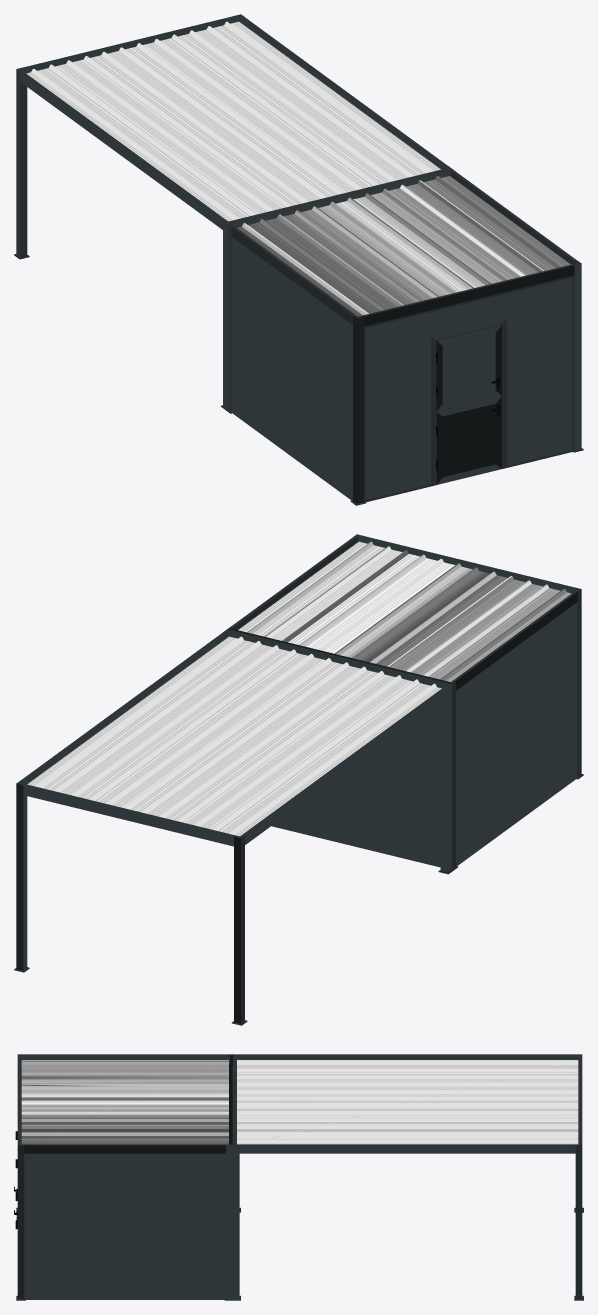
The model's file is 13444_carport5x3abri3x3.fbx.
3 renders of one model, top to bottom at view 1: azimuth 30°, elevation 25°; view 2: azimuth 150°, elevation 25°; view 3: azimuth 270°, elevation 25°, orthographic. The views are drawn at different scales.
Visible parts, largest first — view 1: priximbattable_net_box_a_cheval_13444_module_carport_box_che, folhabaixo, folhacima, porta; view 2: priximbattable_net_box_a_cheval_13444_module_carport_box_che; view 3: priximbattable_net_box_a_cheval_13444_module_carport_box_che.
Part boxes in pixels (box(x1,y1,x2,y2)): priximbattable_net_box_a_cheval_13444_module_carport_box_che: box(14, 14, 583, 505); folhabaixo: box(436, 396, 501, 484); folhacima: box(436, 325, 501, 411); porta: box(431, 318, 506, 486); priximbattable_net_box_a_cheval_13444_module_carport_box_che: box(14, 534, 583, 1025); priximbattable_net_box_a_cheval_13444_module_carport_box_che: box(16, 1054, 583, 1300).
Bounding box in the file's own units: 324 × 254 × 848.
1 material, 1 textured.
